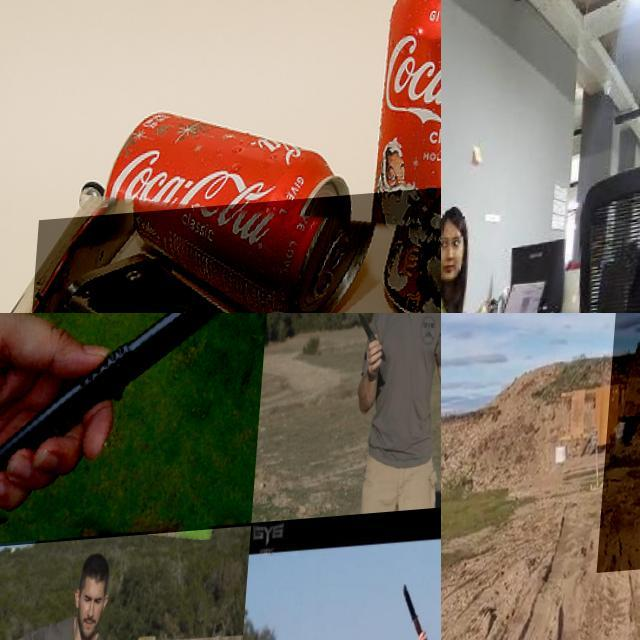-: (0, 313, 274, 550), (351, 313, 386, 377), (400, 584, 440, 640)
gun-knife-thesis - v11 Yolov5 augmented: (22, 185, 441, 313)
